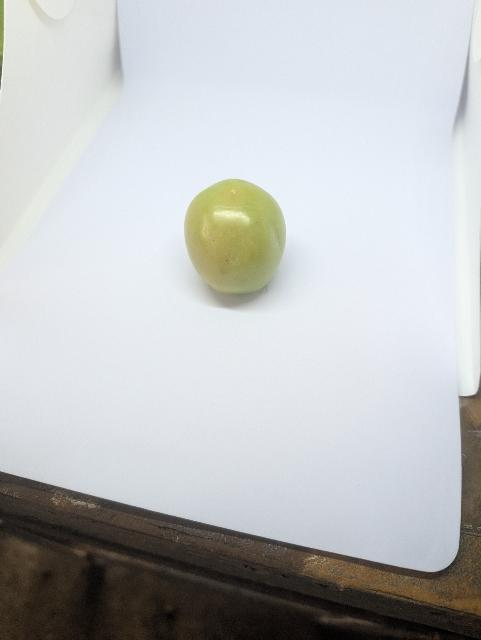green: (164, 159, 305, 315)
